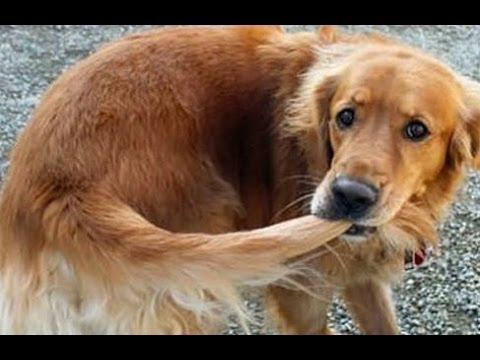tail: (43, 183, 353, 303)
